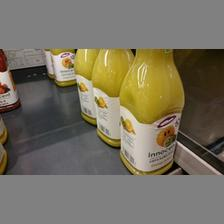Saft: (118, 48, 187, 174), (90, 49, 134, 147), (70, 48, 98, 124)
